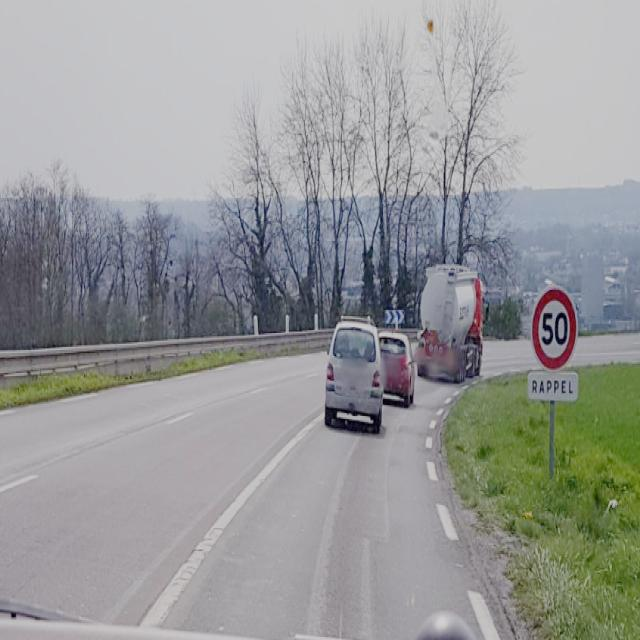speed_50: (531, 285, 578, 373)
